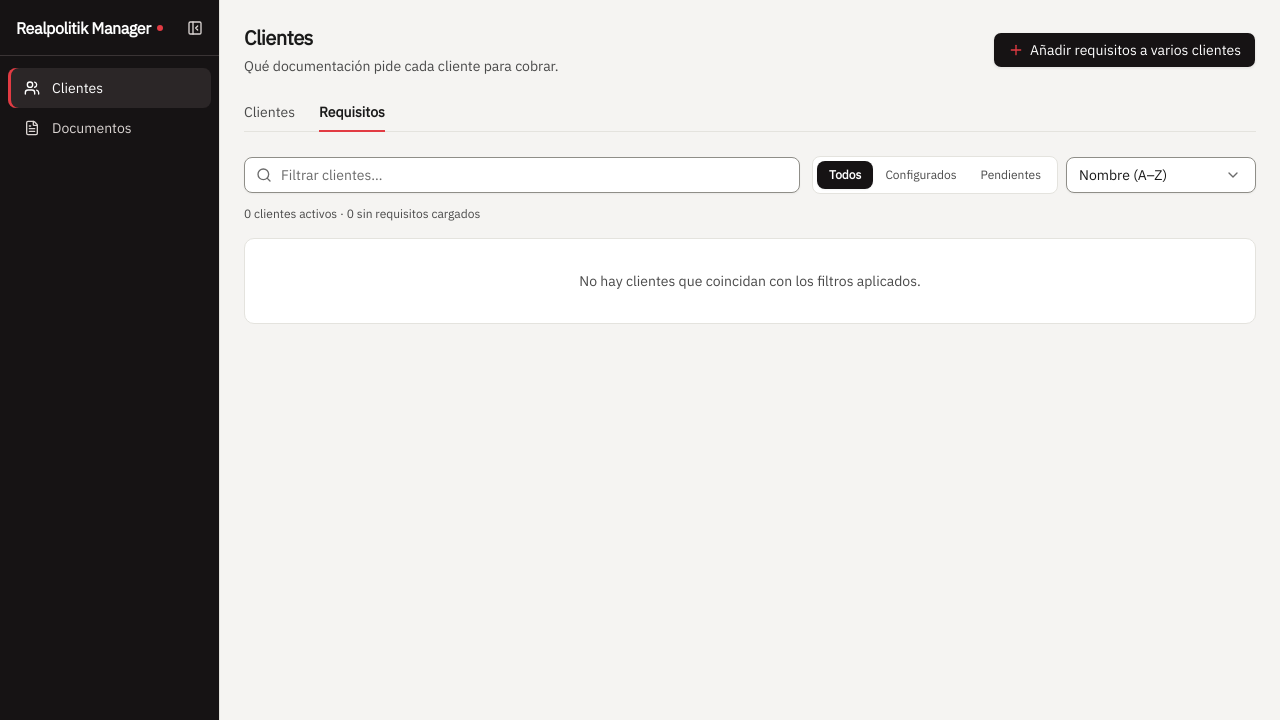
Test: Ruta /documentos en el shell › se llega a Documentos desde el Sidebar sin pasar por Clientes, y Atrás vuelve
Click the link "Documentos": (78, 128) [24, 119, 132, 137]
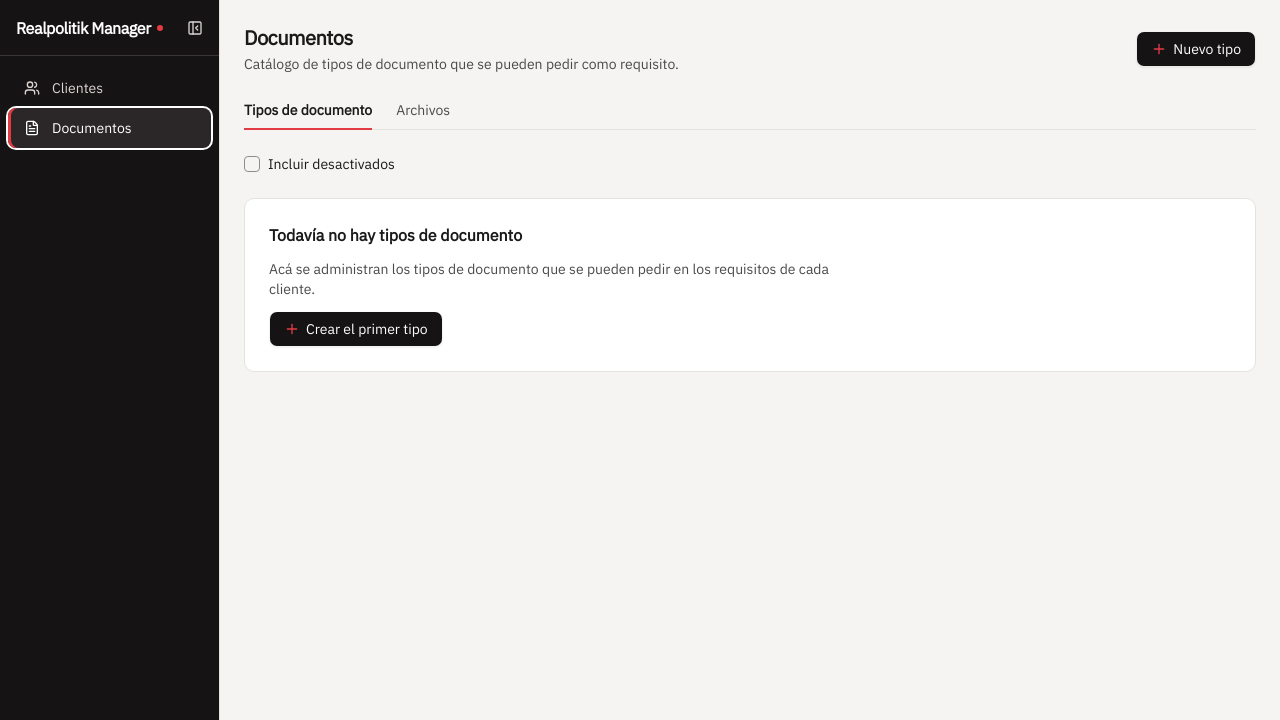
Now the heading "Documentos" is shown, box [244, 24, 353, 51]
